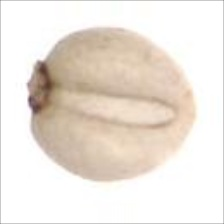L5: (50, 83, 182, 130), (26, 57, 58, 117), (179, 84, 199, 135)
L6: (24, 26, 201, 182)
